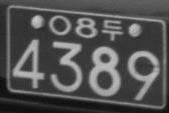0: (48, 14, 71, 35)
3: (50, 40, 83, 93)
4: (12, 38, 44, 88)
8: (88, 45, 121, 97), (75, 17, 99, 38)
9: (126, 49, 160, 100)
두: (102, 19, 124, 41)
